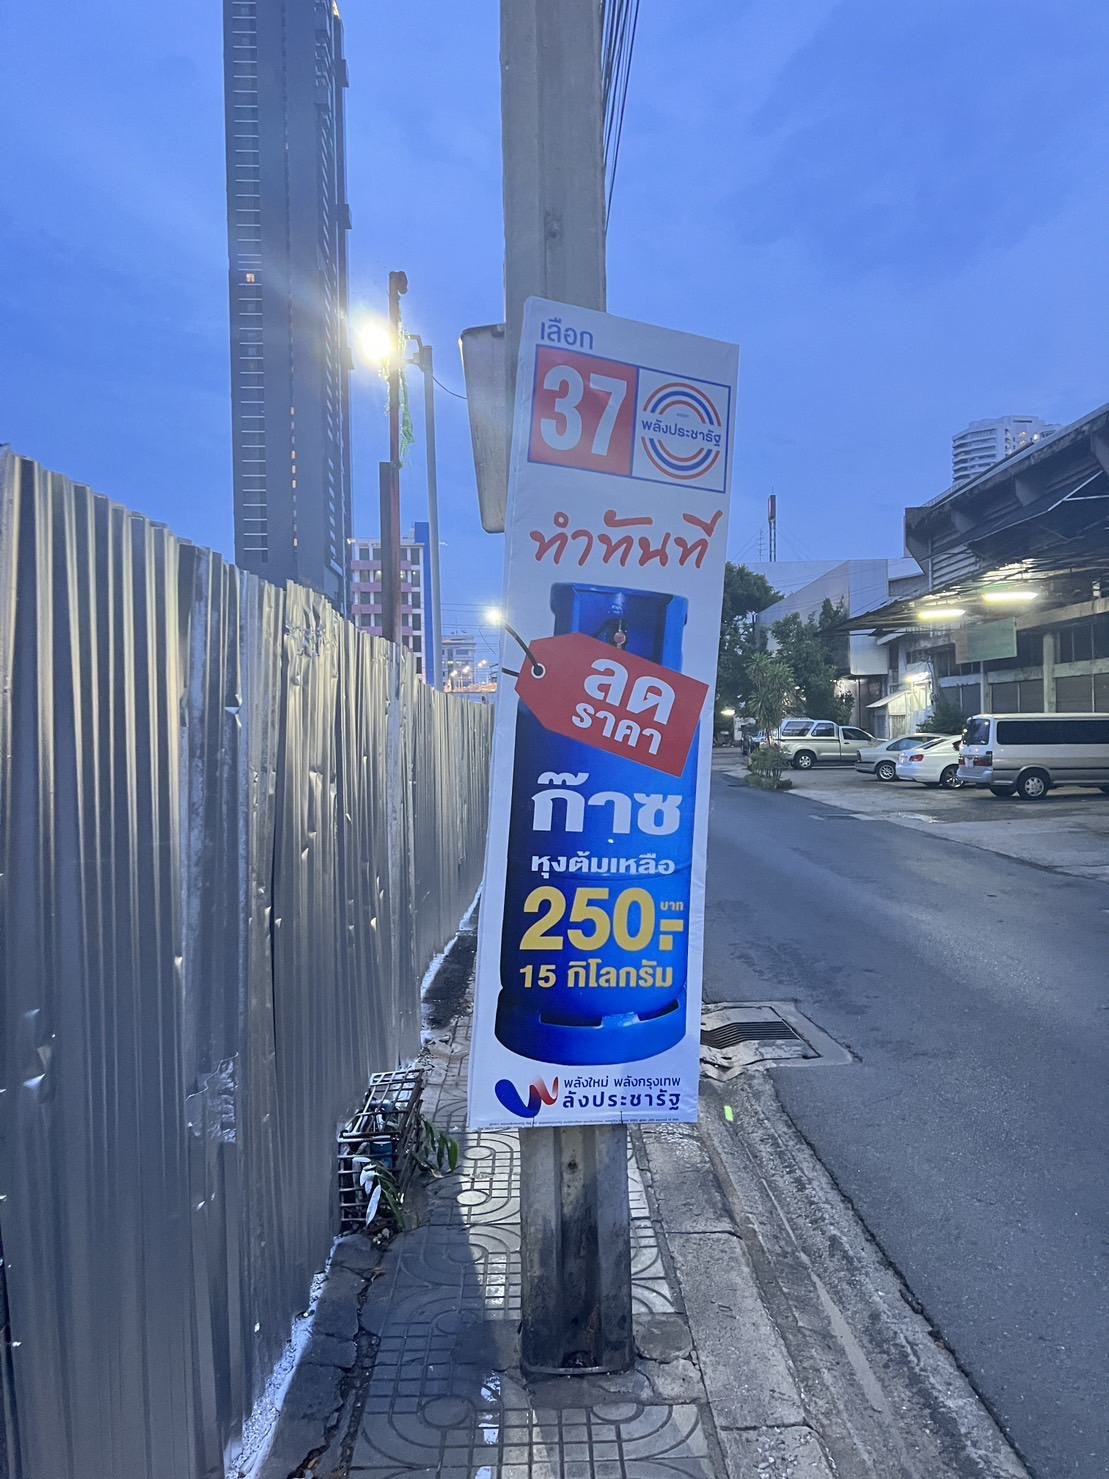Banner: (483, 289, 713, 1141)
